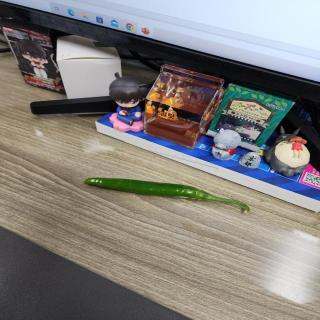Cabai Hijau: (65, 162, 264, 241)
